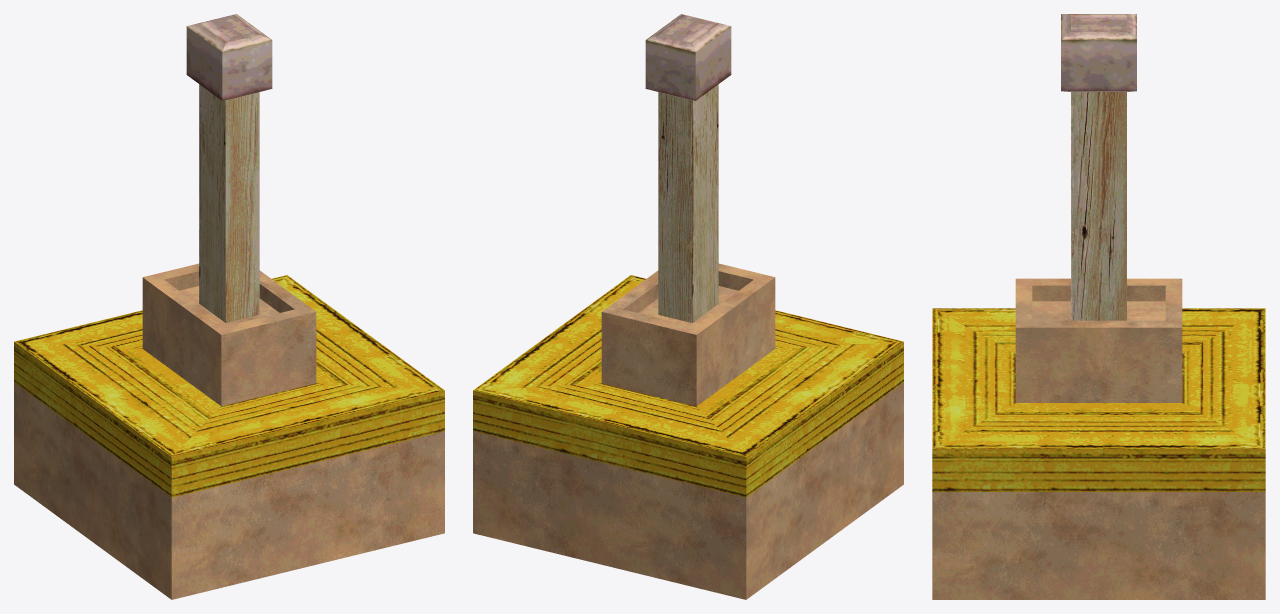
File: Lever_01.fbx
3 renders of one model, left to right at view 1: azimuth 30°, elevation 25°; view 2: azimuth 150°, elevation 25°; view 3: azimuth 270°, elevation 25°, orthographic. The views are drawn at different scales.
Visible parts, largest first — view 1: Box053, Box054; view 2: Box053, Box054; view 3: Box053, Box054.
Boxes of the visible parts, box(x1,y1,x2,y2) form: Box053: box(14, 263, 444, 599); Box054: box(186, 14, 272, 322); Box053: box(473, 263, 903, 599); Box054: box(645, 14, 731, 322); Box053: box(932, 278, 1265, 599); Box054: box(1061, 14, 1136, 320).
Bounding box in the file's own units: 200 × 336 × 200.
